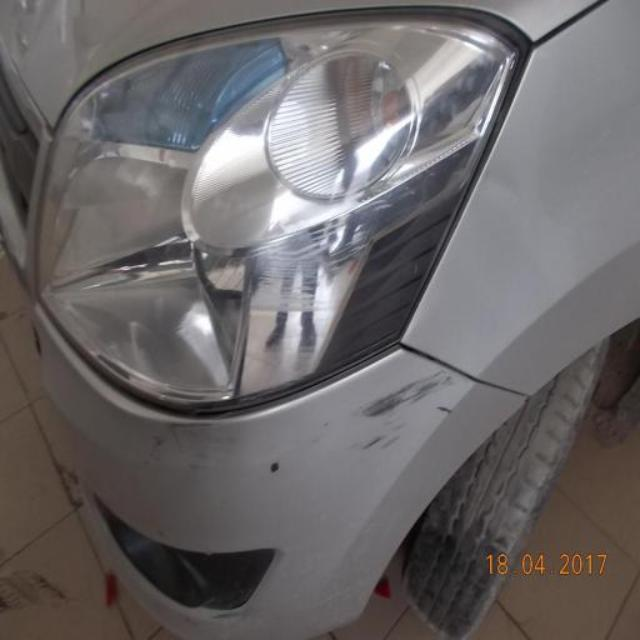rub: (357, 362, 456, 452)
